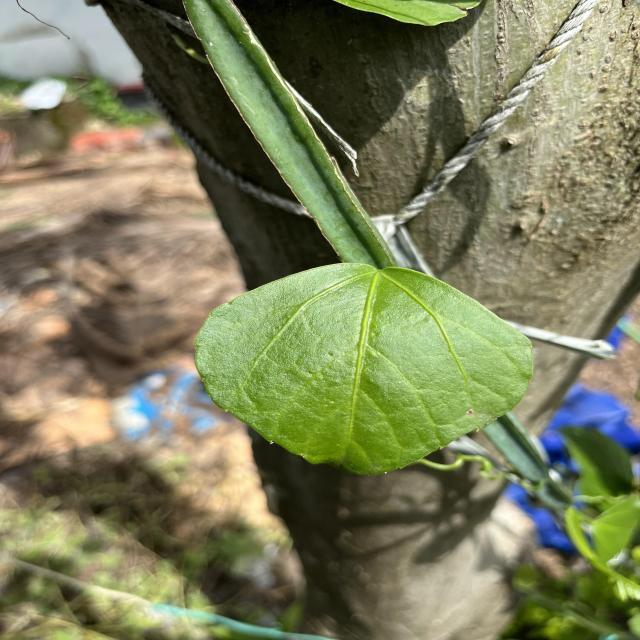Cissus quadrangularis: (188, 258, 538, 480)
